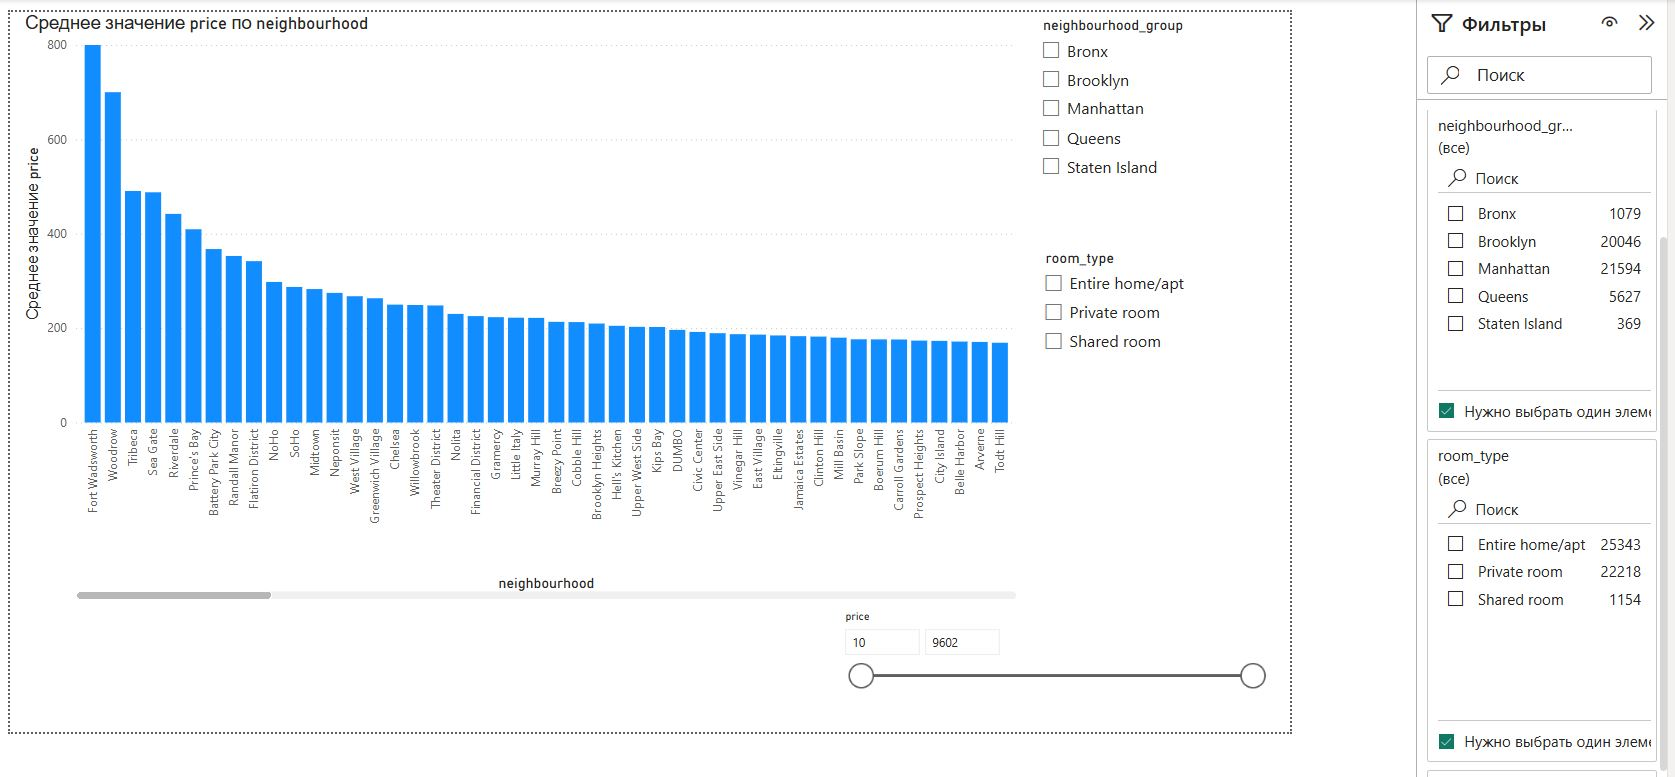

This screenshot's page, from the dashboard's own definition file:
{"tool":"powerbi","page":{"name":"Average Price per Neighborhood","canvas":[1280,720],"ordinal":6},"visuals":[{"type":"clusteredColumnChart","fields":{"Category":["AB_NYC_2019.neighbourhood"],"Y":["Avg(AB_NYC_2019.price)"]},"box":[10,0,1001.2,592.5],"z":0},{"type":"slicer","fields":{"Values":["AB_NYC_2019.room_type"]},"box":[1022.5,232.5,257.5,127.5],"z":1},{"type":"slicer","fields":{"Values":["AB_NYC_2019.neighbourhood_group"]},"box":[1020,0,260,207.5],"z":2},{"type":"slicer","fields":{"Values":["AB_NYC_2019.price"]},"box":[822.5,592.5,457.5,127.5],"z":3}]}

Visuals, with their boxes on the page's 1280x720 design canvas (x1, y1, x2, y2). These are canvas units, not pixel positions in the 1675x777 screenshot, which may show the page scaled, cropped or inside an application window:
clusteredColumnChart - AB_NYC_2019.neighbourhood x Avg(AB_NYC_2019.price): <region>10, 0, 1011, 592</region>
slicer - AB_NYC_2019.room_type: <region>1022, 232, 1280, 360</region>
slicer - AB_NYC_2019.neighbourhood_group: <region>1020, 0, 1280, 208</region>
slicer - AB_NYC_2019.price: <region>822, 592, 1280, 720</region>
